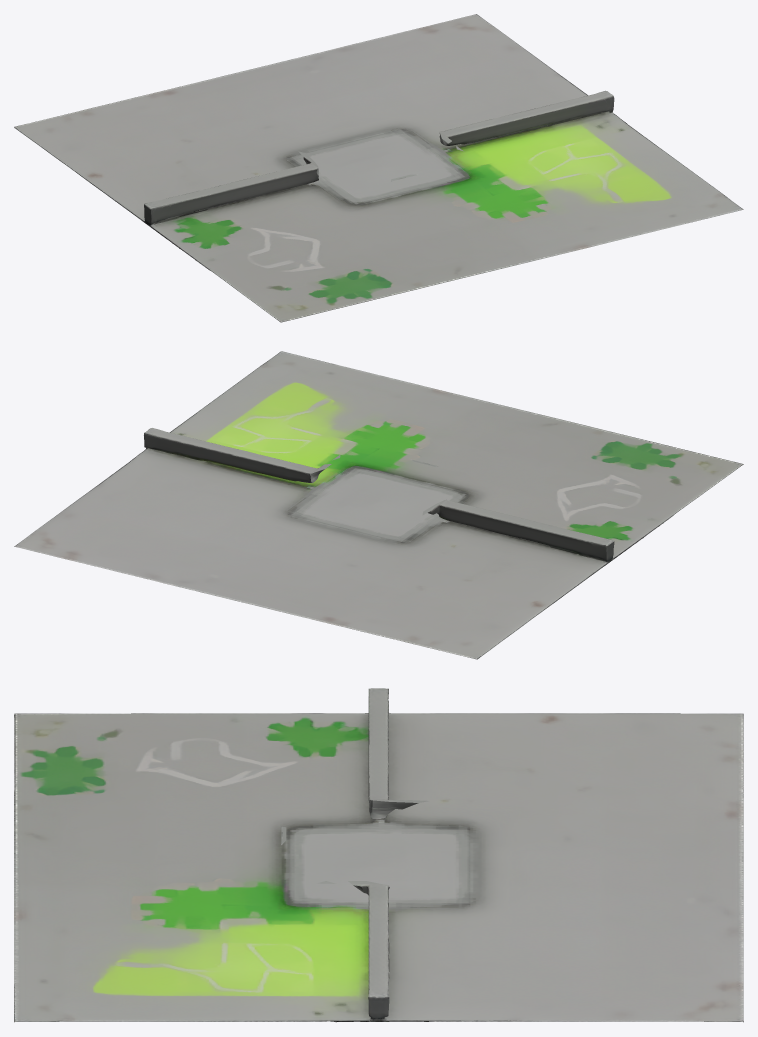
File: apartment-block.glb
The picture shows the model from 3 angles, top to bottom: view 1: azimuth 30°, elevation 25°; view 2: azimuth 150°, elevation 25°; view 3: azimuth 270°, elevation 25°; orthographic projection. The views are drawn at different scales.
Visible parts, largest first — view 1: geometry_0; view 2: geometry_0; view 3: geometry_0.
Boxes of the visible parts, x1=… form: geometry_0: x1=14, y1=14, x2=743, y2=322; geometry_0: x1=14, y1=351, x2=743, y2=659; geometry_0: x1=14, y1=688, x2=743, y2=1022.
Size of the model in its own units: 1 by 0.0422 by 1.
Materials: 1 (1 with a texture image).
